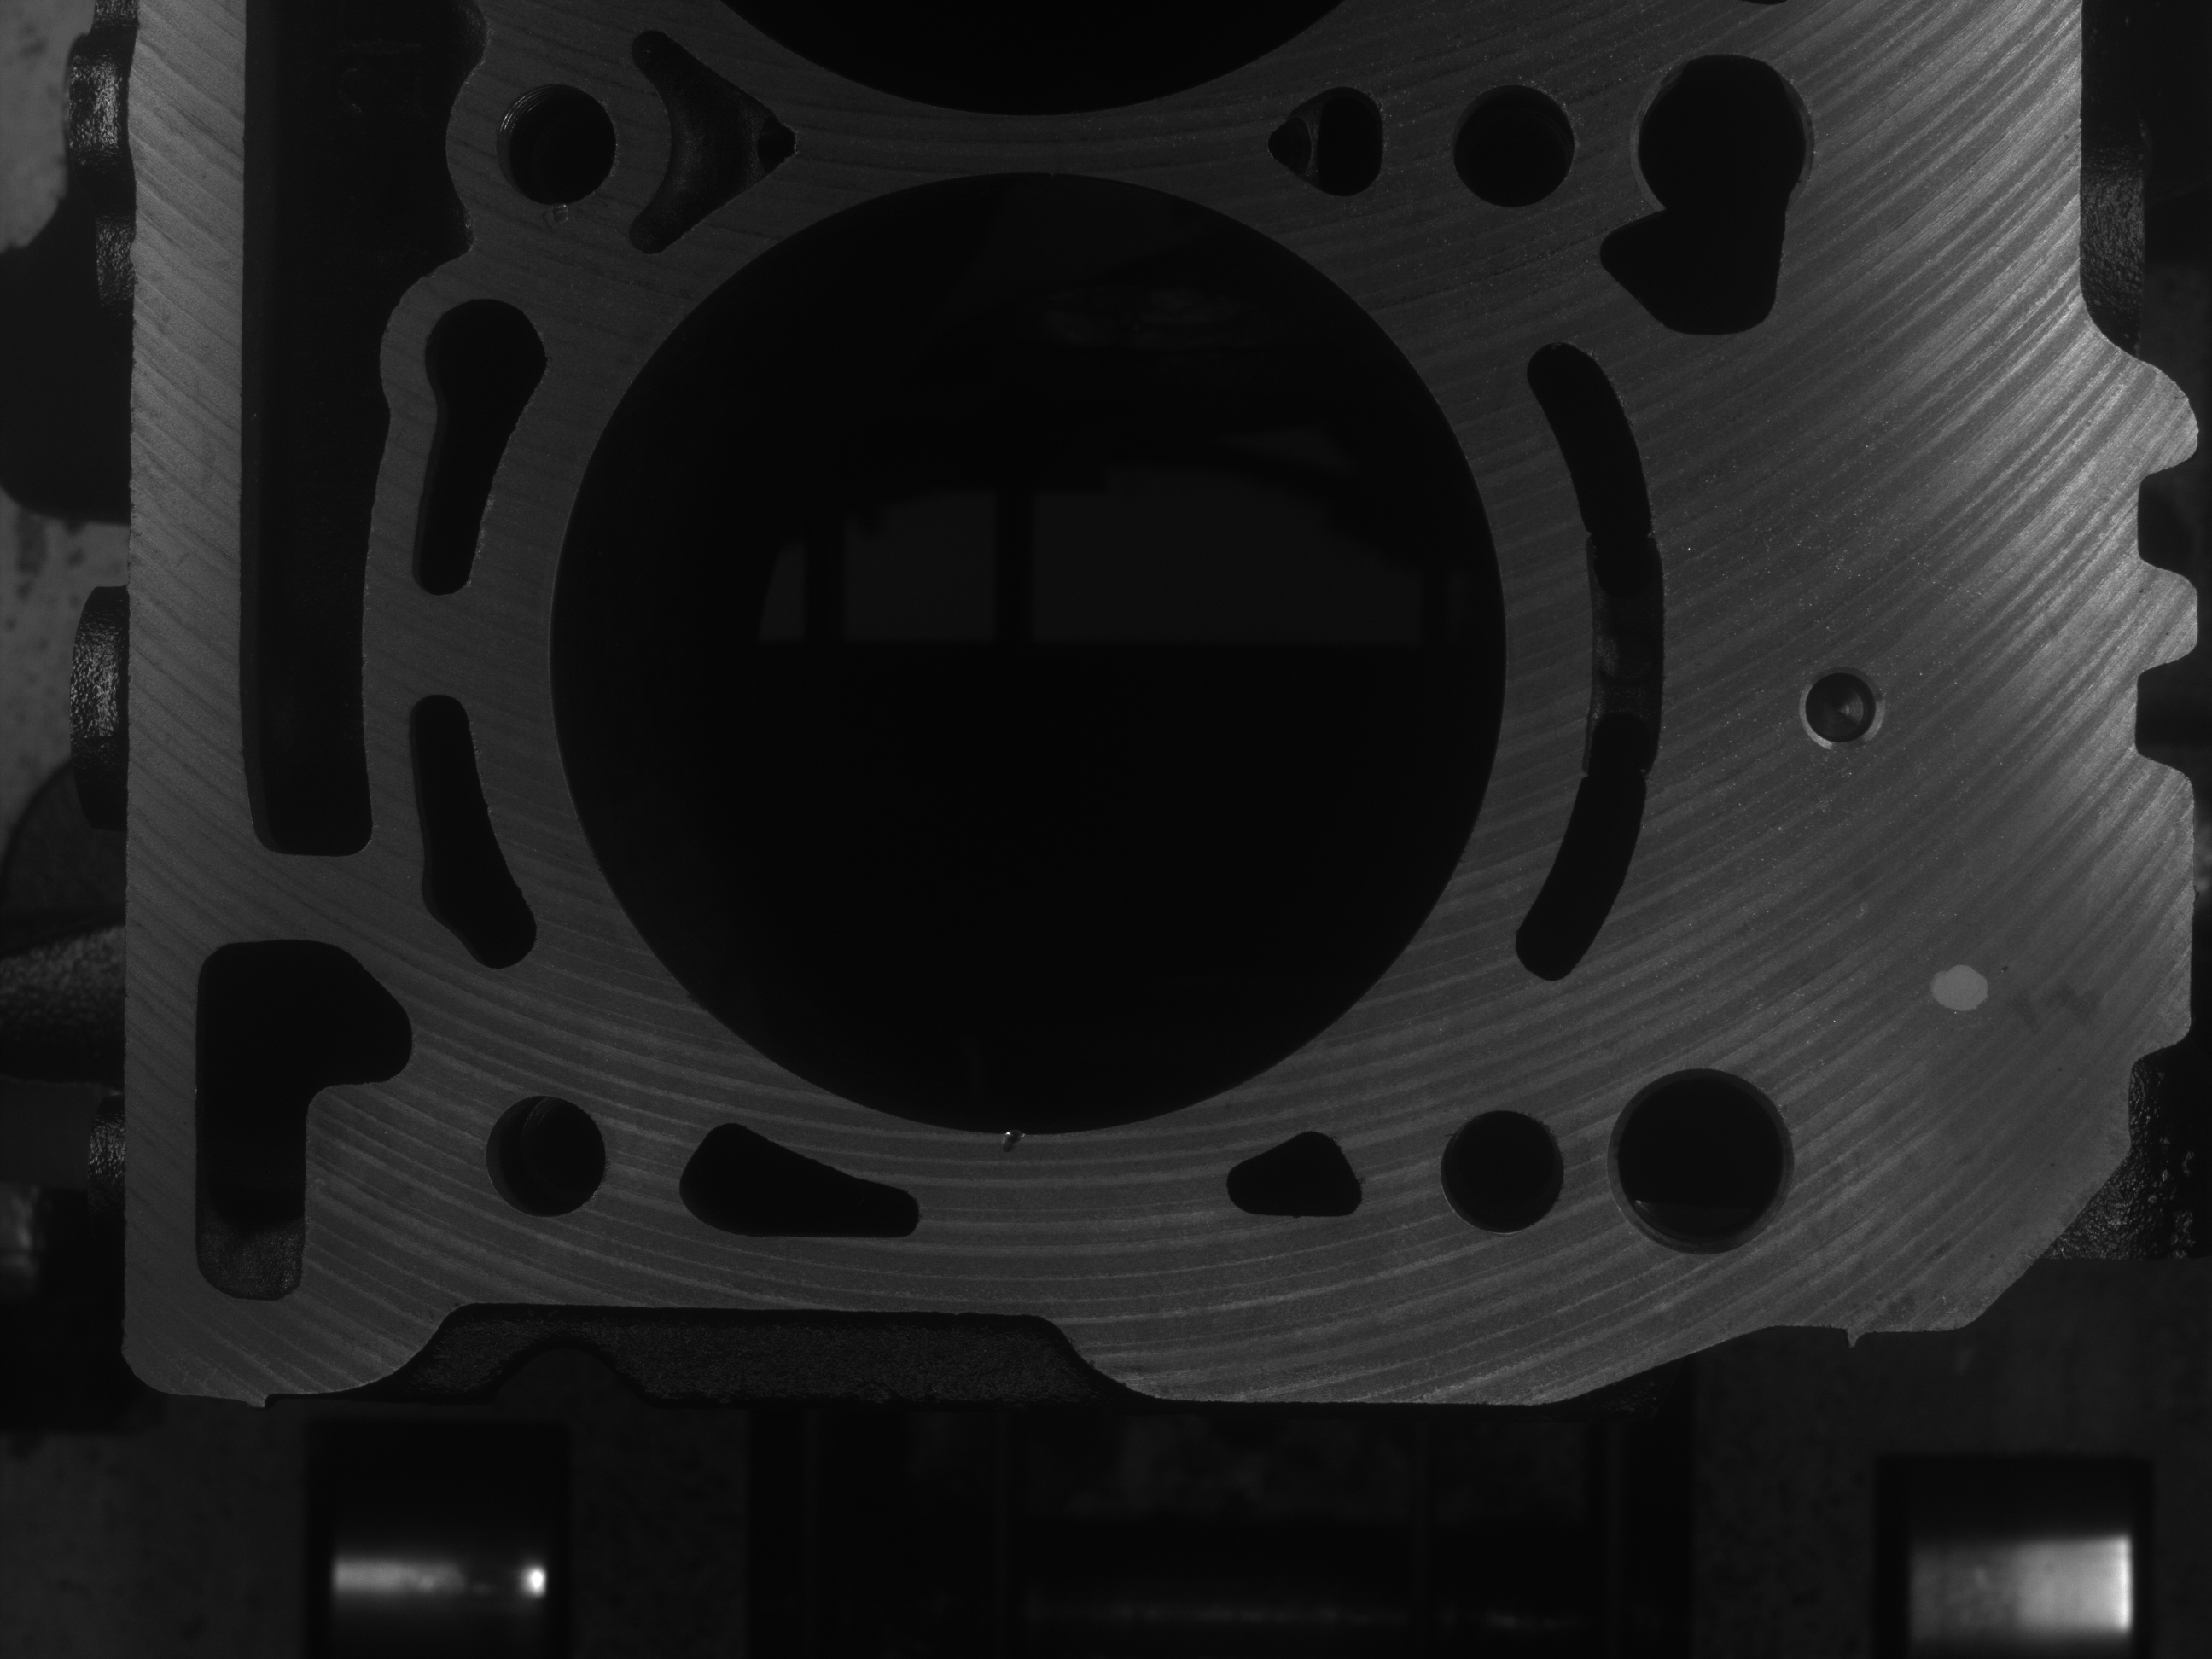dirty: (1900, 920, 2024, 1051)
sandhole: (984, 1121, 1040, 1164), (543, 200, 580, 235)
